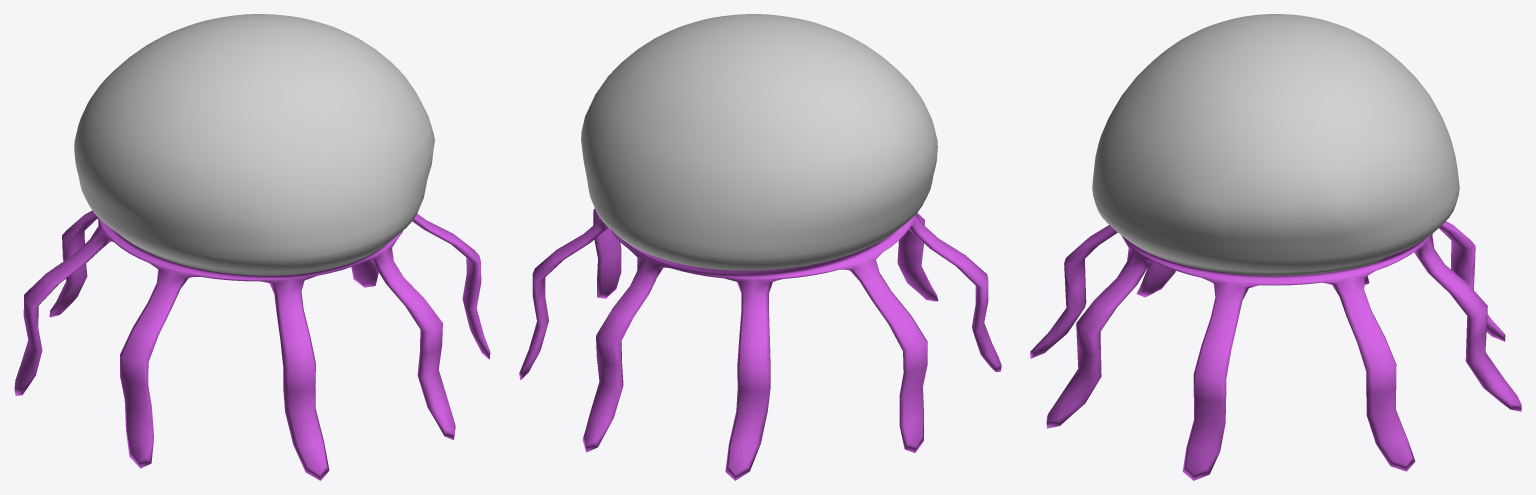
File: Boss.FBX
3 renders of one model, left to right at view 1: azimuth 30°, elevation 25°; view 2: azimuth 150°, elevation 25°; view 3: azimuth 270°, elevation 25°, orthographic.
Visible parts, largest first — view 1: Sphere001; view 2: Sphere001; view 3: Sphere001.
Part boxes in pixels (box(x1,y1,x2,y2)): Sphere001: box(14, 14, 490, 480); Sphere001: box(519, 14, 1001, 480); Sphere001: box(1030, 14, 1521, 480).
Size of the model in its own units: 40.76 by 43.53 by 34.16.
